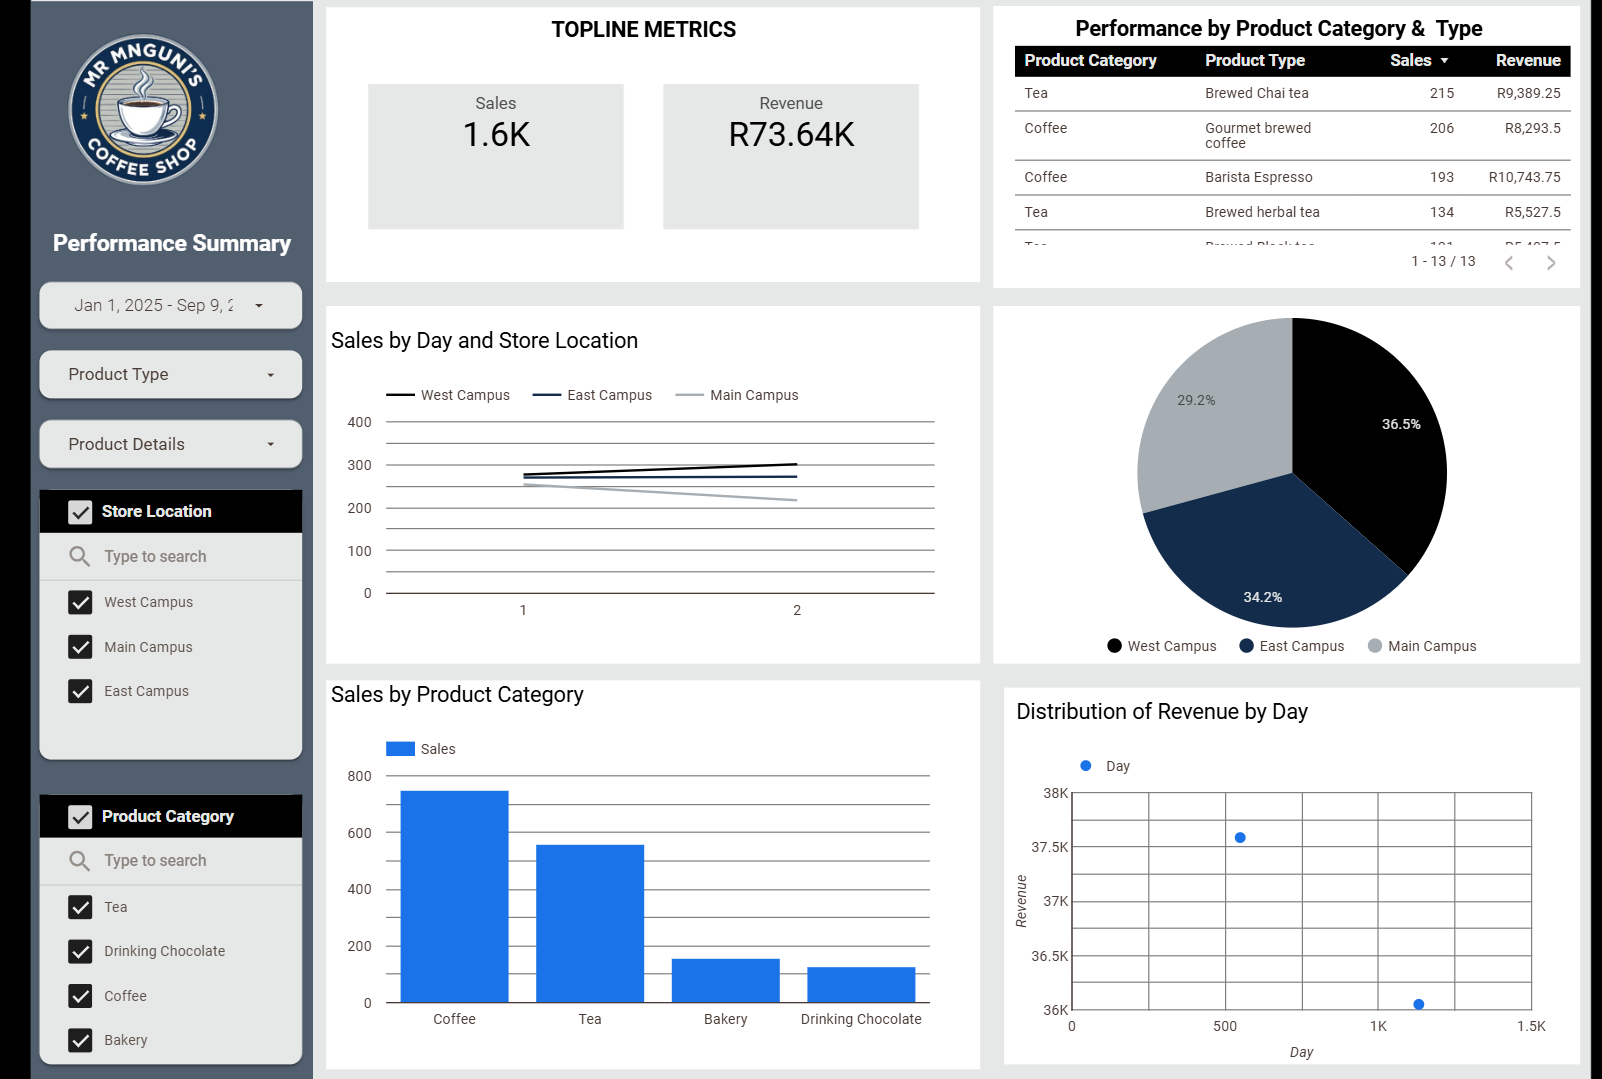

This screenshot's page, from the dashboard's own definition file:
{"tool":"powerbi","page":{"name":"Topline Summary","canvas":[1280,720],"ordinal":0},"visuals":[{"type":"shape","box":[0,0,247.4,720.4],"z":0},{"type":"image","box":[0,0,247.4,182.7],"z":1000},{"type":"textbox","box":[4.8,163.7,237,38.1],"z":2000},{"type":"slicer","fields":{"Values":["public coffee_sales_data_bi_analytics_view.store_location"]},"box":[4.8,305.5,237,142.8],"z":3000},{"type":"slicer","fields":{"Values":["public coffee_sales_data_bi_analytics_view.transaction_date"]},"box":[4.8,201.8,237,91.4],"z":4000},{"type":"slicer","fields":{"Values":["public coffee_sales_data_bi_analytics_view.product_category"]},"box":[4.8,462.5,237,250.3],"z":5000},{"type":"cardVisual","title":"SALES","fields":{"Data":["Sum(public coffee_sales_data_bi_analytics_view.transaction_qty)"]},"box":[259.8,54.2,276.9,142.8],"z":6000},{"type":"cardVisual","title":"REVENUE","fields":{"Data":["Sum(public coffee_sales_data_bi_analytics_view.total_amount)"]},"box":[559.6,54.2,276.9,142.8],"z":7000},{"type":"textbox","box":[259.8,7.6,577.7,35.2],"z":8000},{"type":"lineChart","fields":{"Category":["public coffee_sales_data_bi_analytics_view.month"],"Series":["public coffee_sales_data_bi_analytics_view.store_location"],"Y":["Sum(public coffee_sales_data_bi_analytics_view.transaction_qty)"]},"box":[259.8,209.4,576.7,238.9],"z":9000},{"type":"columnChart","fields":{"Category":["public coffee_sales_data_bi_analytics_view.product_category"],"Y":["Sum(public coffee_sales_data_bi_analytics_view.transaction_qty)"]},"box":[259.8,462.5,577.7,250.3],"z":10000},{"type":"pieChart","fields":{"Category":["public coffee_sales_data_bi_analytics_view.store_location"],"Y":["Sum(public coffee_sales_data_bi_analytics_view.total_amount)"]},"box":[868.9,209.4,394,238.9],"z":11000},{"type":"scatterChart","fields":{"X":["public coffee_sales_data_bi_analytics_view.transaction_date.Variation.Date Hierarchy.Day"],"Y":["Sum(public coffee_sales_data_bi_analytics_view.total_amount)"]},"box":[869,463,394,250],"z":12000},{"type":"tableEx","fields":{"Values":["public coffee_sales_data_bi_analytics_view.product_category","public coffee_sales_data_bi_analytics_view.product_type","Sum(public coffee_sales_data_bi_analytics_view.transaction_qty)","Sum(public coffee_sales_data_bi_analytics_view.total_amount)"]},"box":[868.9,54.2,394,142.8],"z":13000},{"type":"textbox","box":[868.9,7.6,394,35.2],"z":14000},{"type":"actionButton","box":[0,0,100,40],"z":15000}]}

Visuals, with their boxes on the page's 1280x720 design canvas (x1, y1, x2, y2). These are canvas units, not pixel positions in the 1602x1079 screenshot, which may show the page scaled, cropped or inside an application window:
shape: [0,0,247,720]
image: [0,0,247,183]
textbox: [5,164,242,202]
slicer - public coffee_sales_data_bi_analytics_view.store_location: [5,306,242,448]
slicer - public coffee_sales_data_bi_analytics_view.transaction_date: [5,202,242,293]
slicer - public coffee_sales_data_bi_analytics_view.product_category: [5,462,242,713]
"SALES" cardVisual: [260,54,537,197]
"REVENUE" cardVisual: [560,54,836,197]
textbox: [260,8,838,43]
lineChart - public coffee_sales_data_bi_analytics_view.month x public coffee_sales_data_bi_analytics_view.store_location: [260,209,836,448]
columnChart - public coffee_sales_data_bi_analytics_view.product_category x Sum(public coffee_sales_data_bi_analytics_view.transaction_qty): [260,462,838,713]
pieChart - public coffee_sales_data_bi_analytics_view.store_location x Sum(public coffee_sales_data_bi_analytics_view.total_amount): [869,209,1263,448]
scatterChart - public coffee_sales_data_bi_analytics_view.transaction_date.Variation.Date Hierarchy.Day x Sum(public coffee_sales_data_bi_analytics_view.total_amount): [869,463,1263,713]
tableEx - public coffee_sales_data_bi_analytics_view.product_category x public coffee_sales_data_bi_analytics_view.product_type: [869,54,1263,197]
textbox: [869,8,1263,43]
actionButton: [0,0,100,40]
